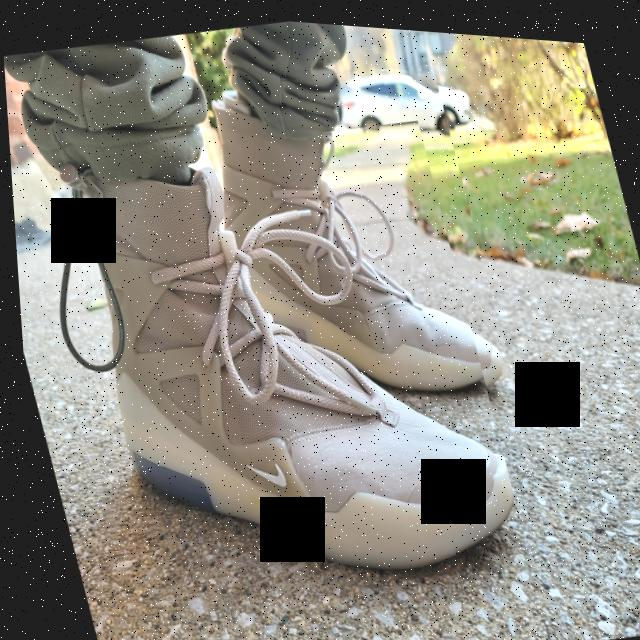shoe: (10, 90, 529, 635), (179, 38, 518, 449)
